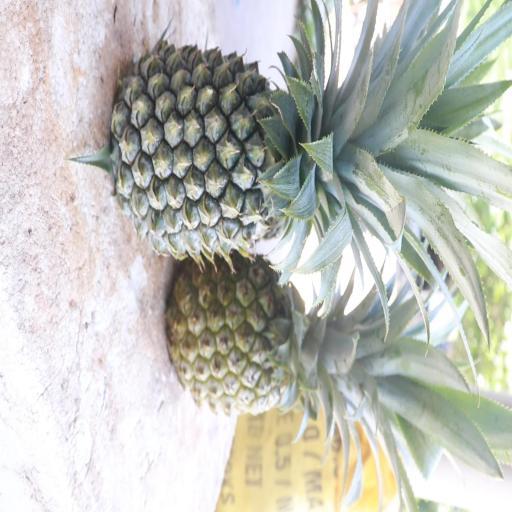------------------------------: (163, 246, 394, 424)
